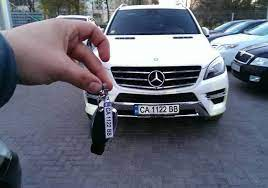registration_plate: (134, 104, 182, 115)
